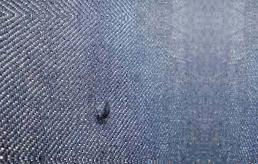knot: (93, 99, 113, 125)
